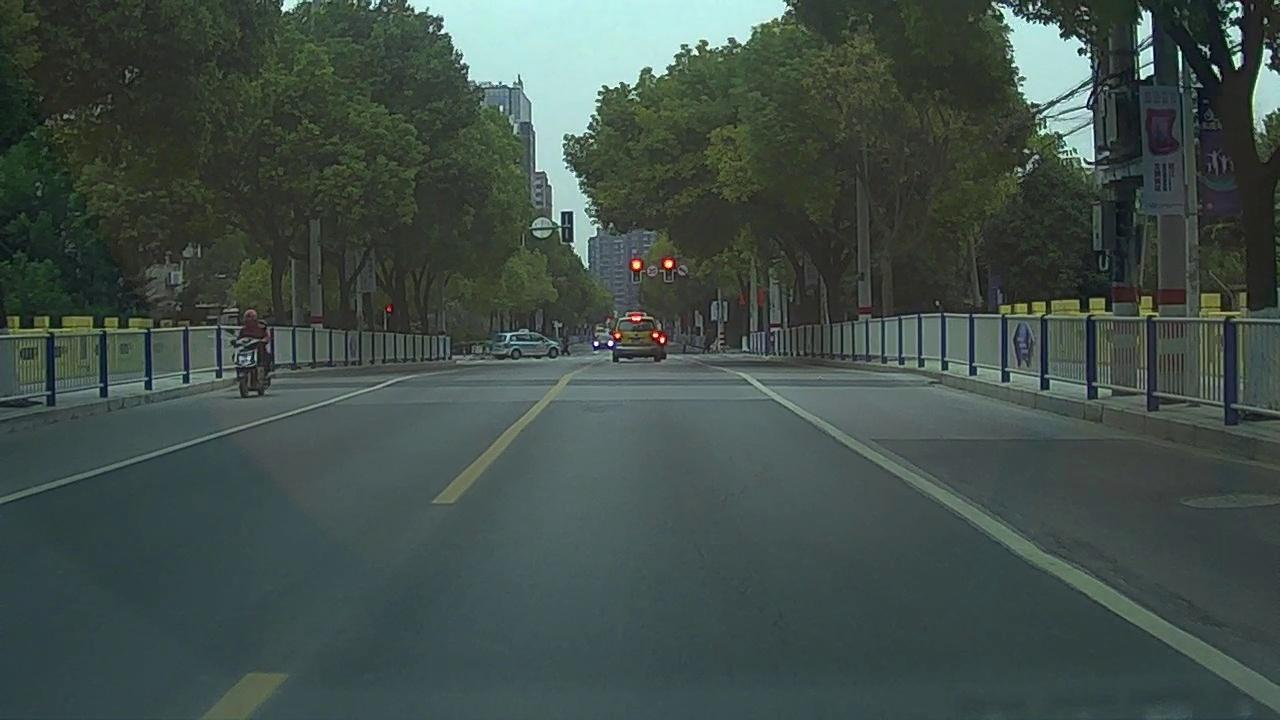traffic_light: (664, 259, 674, 280), (632, 259, 641, 279)
